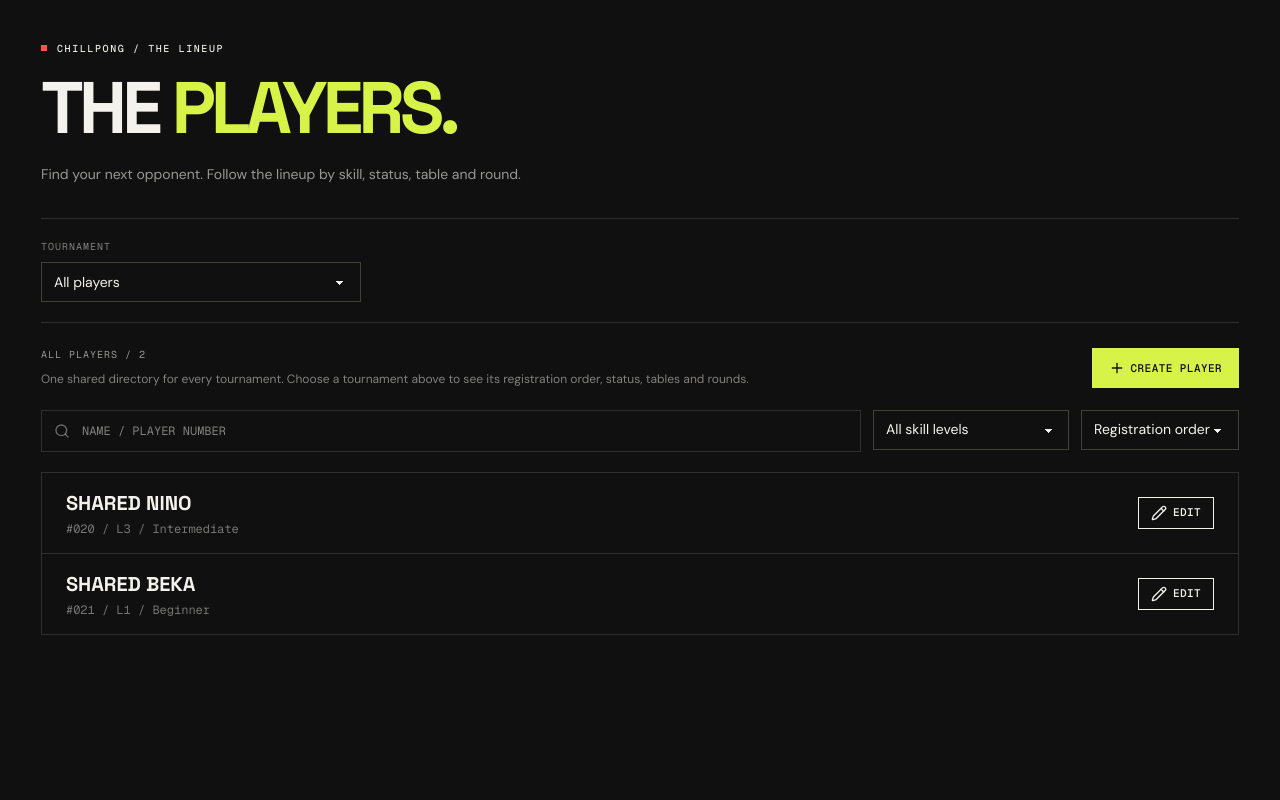
Test case: Players page › registers an existing shared player and opens the late entrant placement flow
Select "Night Rally / live" in the dropdown labelled "Tournament" at (201, 282), box [41, 262, 361, 302]
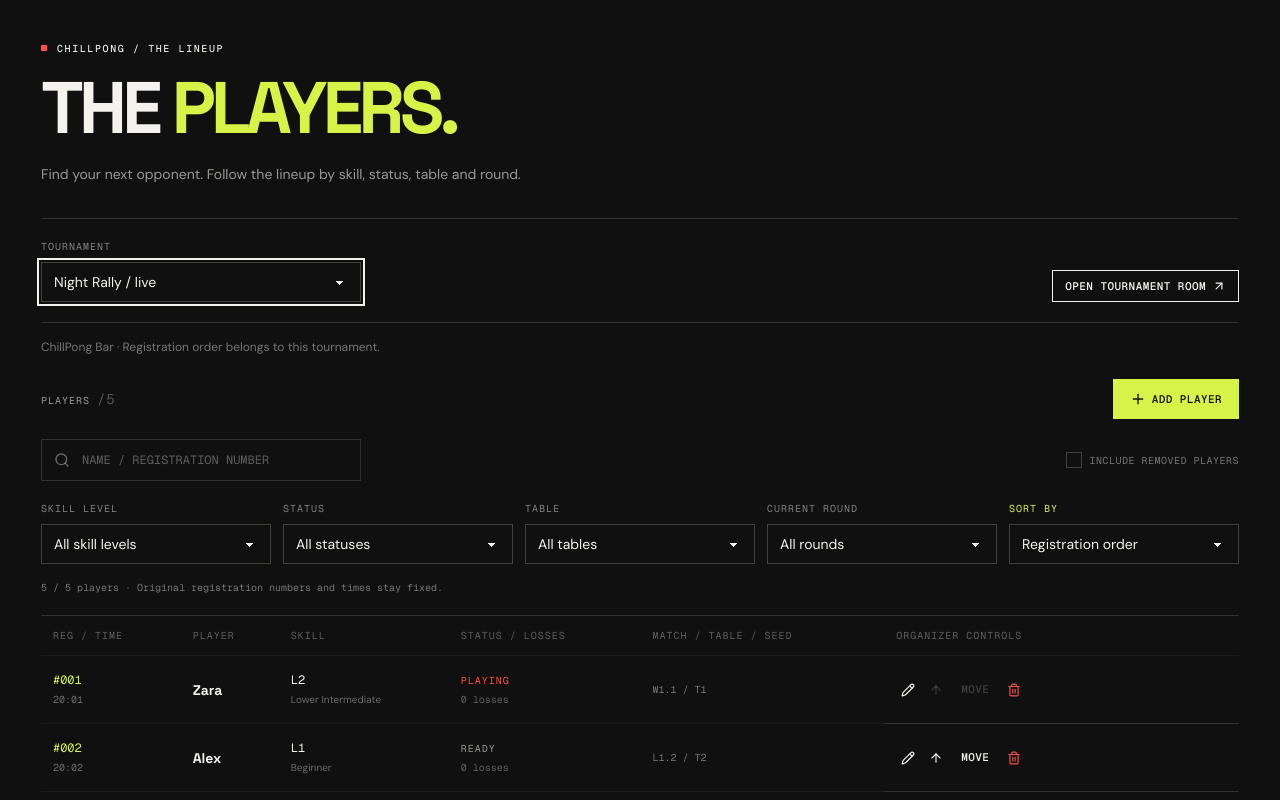
Click the button "Add player" at (1176, 399), box [1113, 379, 1239, 419]
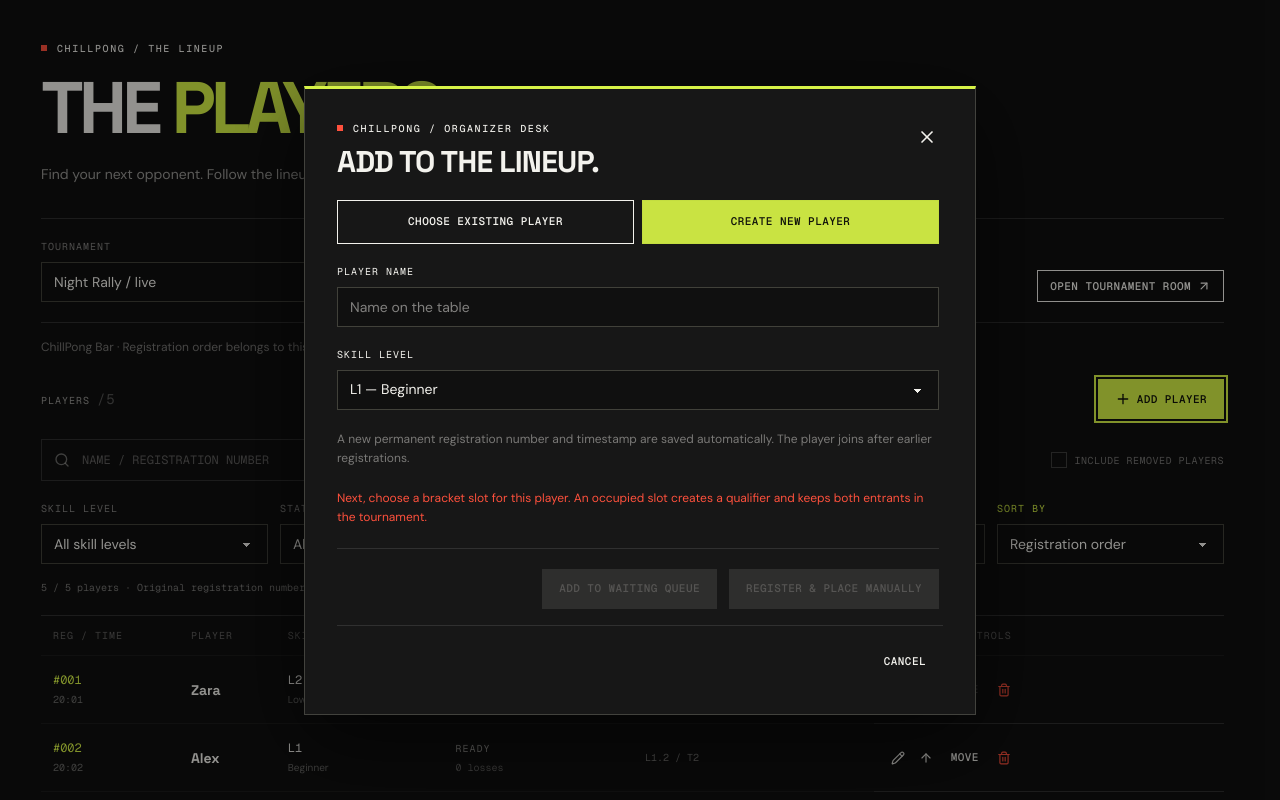
Click the button "Choose existing player" at (486, 222), box [337, 200, 634, 244]
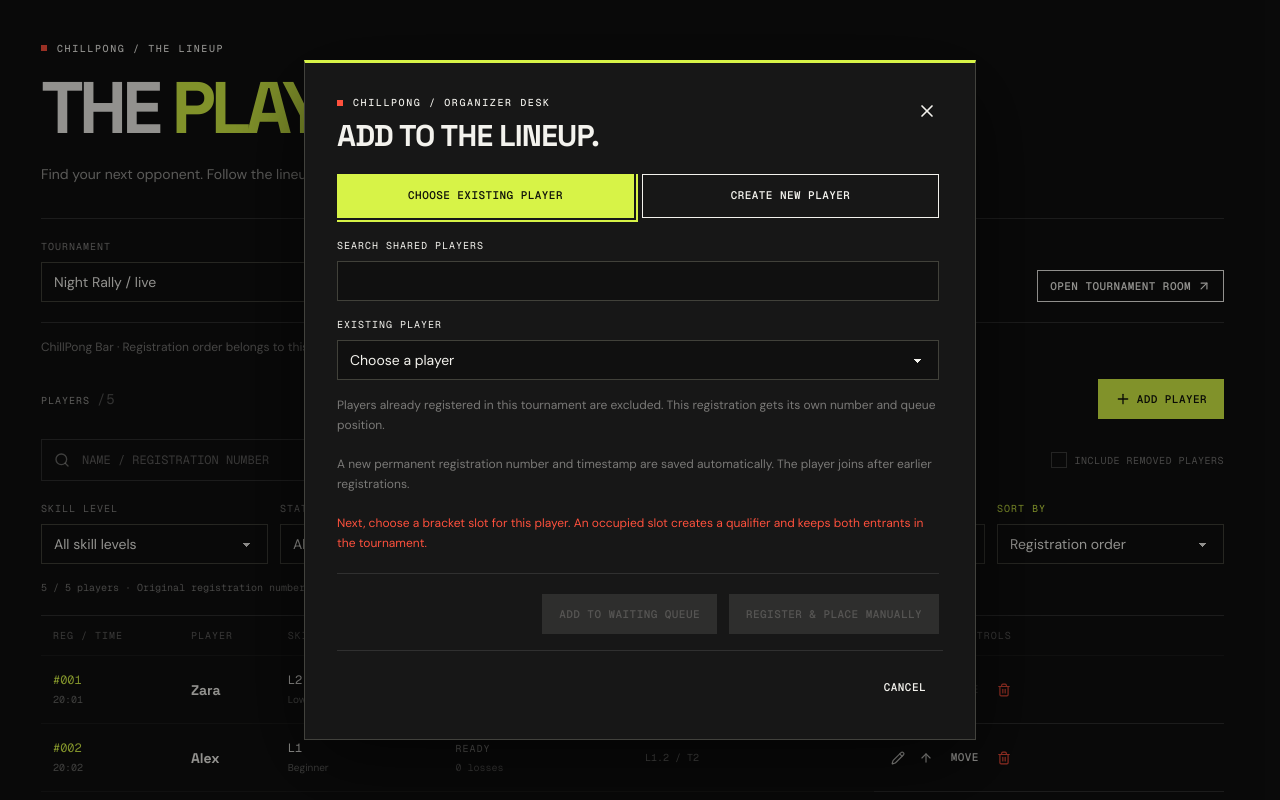
Select "Shared Beka / L1" in the dropdown labelled "Existing player" at (638, 360), box [337, 340, 939, 380]
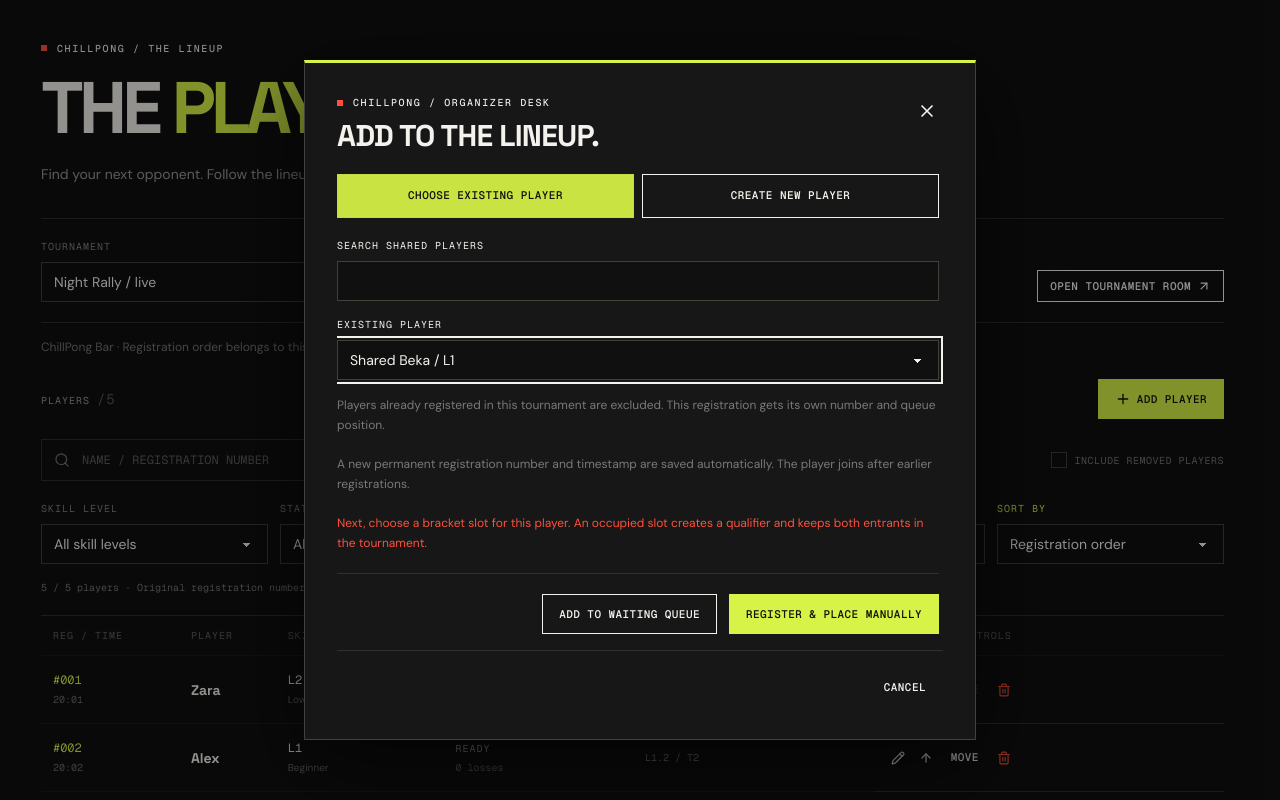
Expected: the text labelled "Player name" is not shown
Click the button "Register & place manually" at (834, 614), box [729, 594, 939, 634]
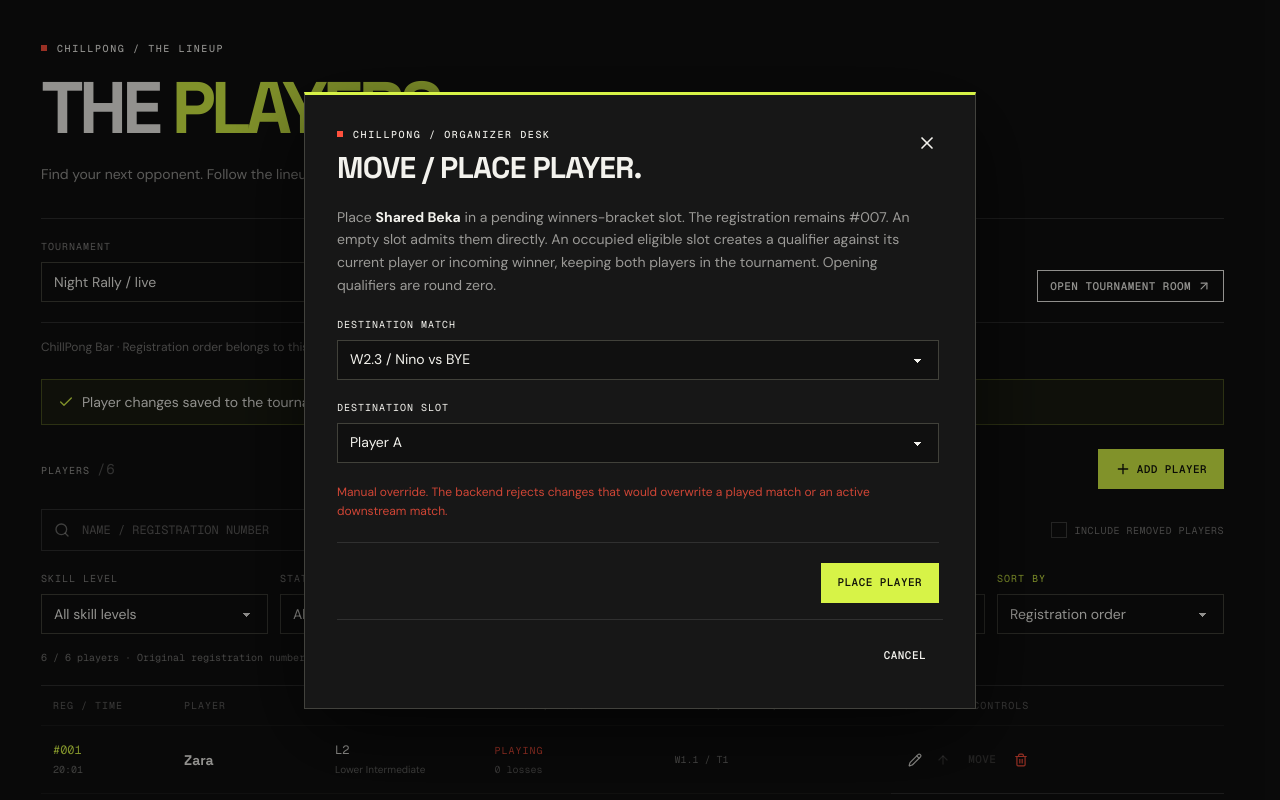
Expected: the heading "Move / place player." is shown, [337, 150, 642, 186]
Expected: the button "Place player" is enabled, [820, 562, 939, 602]
